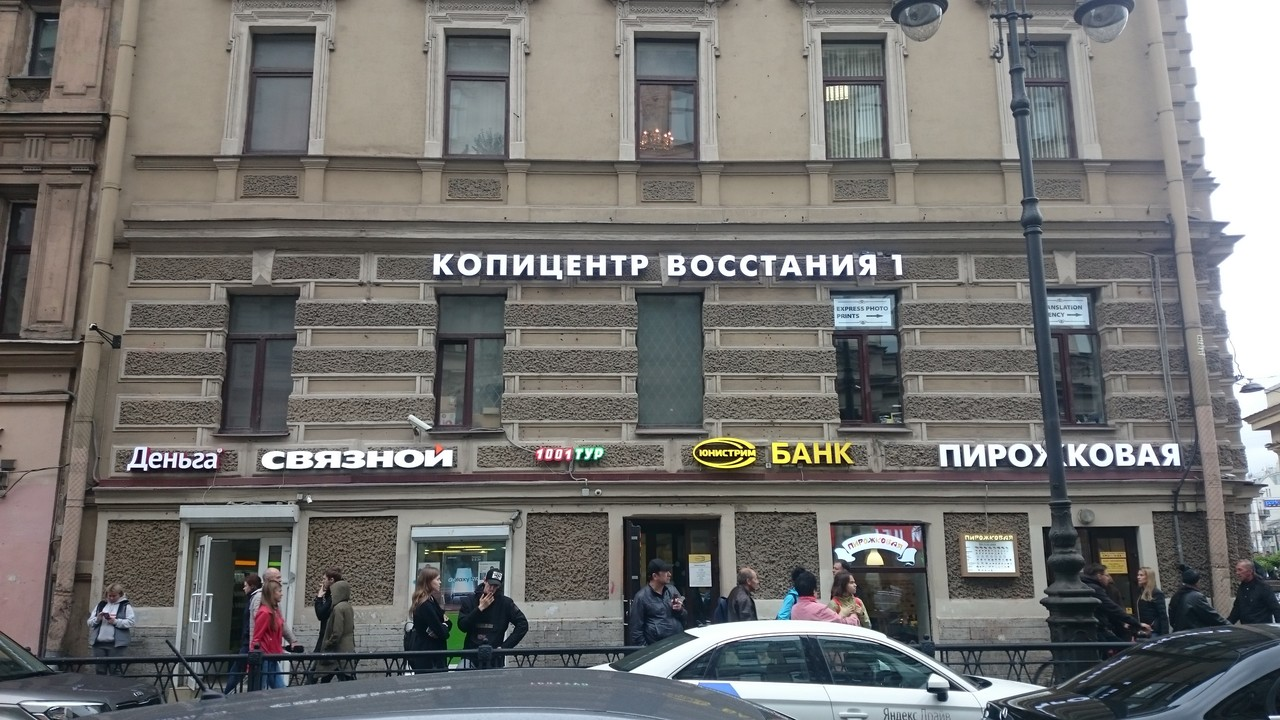signboard: (434, 249, 905, 283), (939, 440, 1182, 474), (683, 430, 858, 476), (259, 448, 456, 473), (124, 442, 224, 476), (531, 442, 606, 467)
window: (222, 292, 302, 438), (832, 290, 910, 432), (429, 291, 506, 432), (637, 287, 702, 430), (442, 31, 513, 157), (247, 25, 315, 156), (635, 35, 702, 164), (1047, 289, 1109, 427), (824, 36, 887, 164), (1018, 38, 1082, 163)
